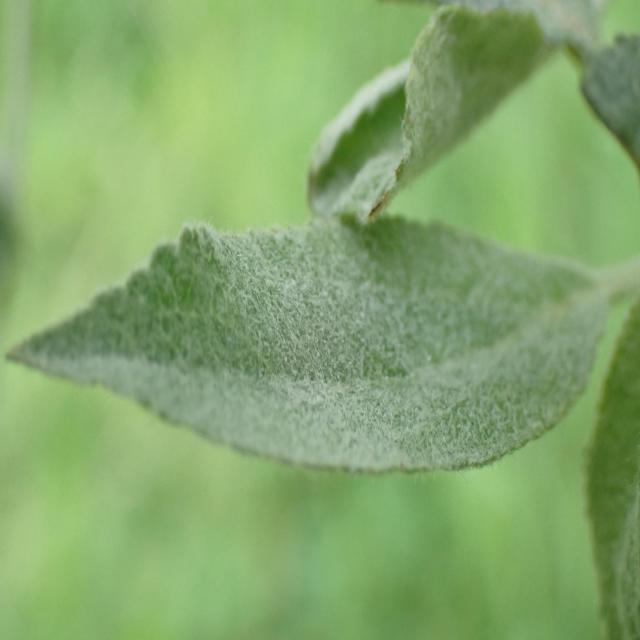Powdery_mildew: (1, 232, 621, 480), (281, 0, 594, 223)
